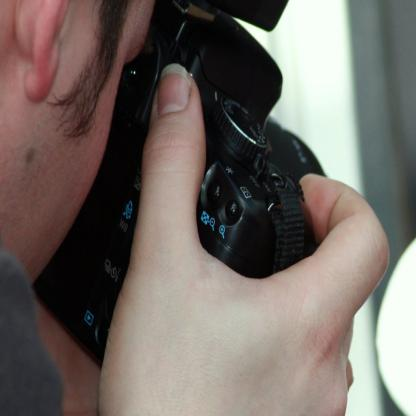Camera: (35, 1, 330, 374)
